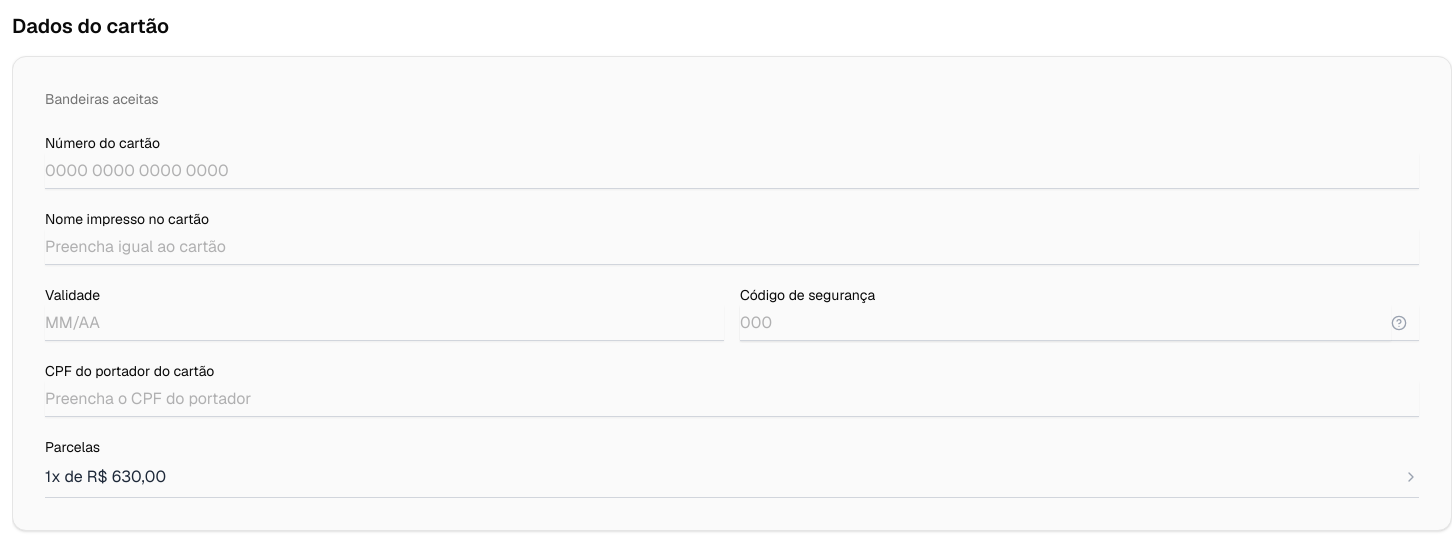
Test: CardDataForm › applies masks on inputs (card, expiration, CVV, CPF)
Type "5359402430066179" into the field with placeholder "0000 0000 0000 0000" at (732, 171), box [45, 153, 1419, 189]
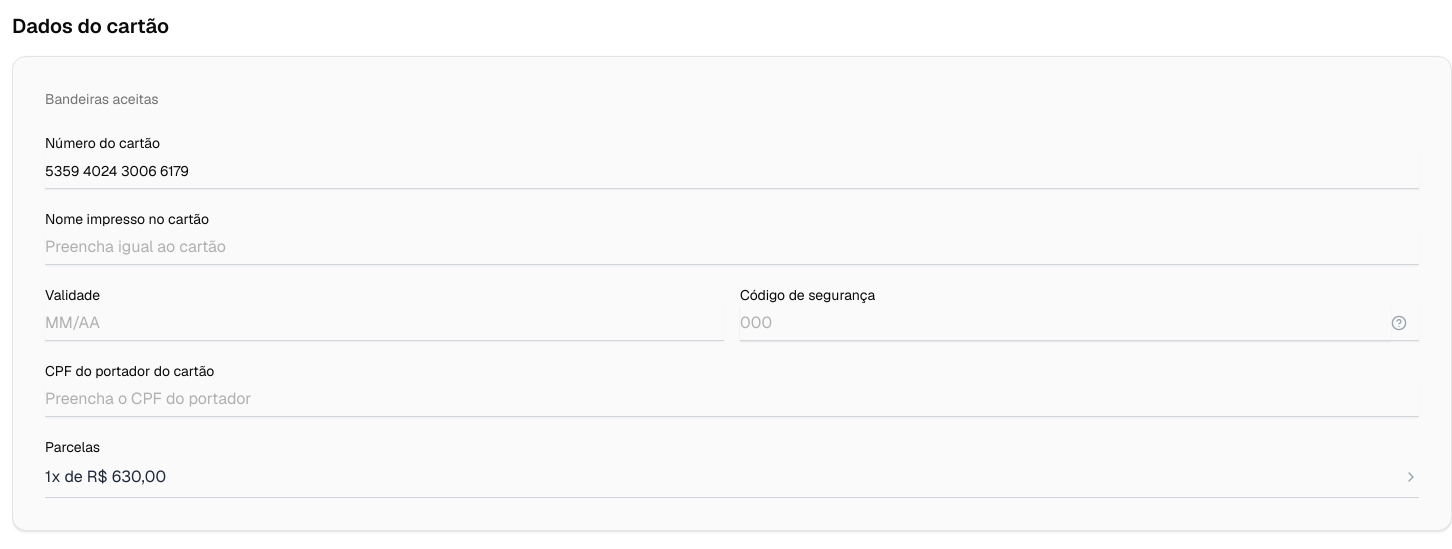
Expected: the field with placeholder "0000 0000 0000 0000" holds "5359 4024 3006 6179", [45, 153, 1419, 189]
Type "1127" into the field with placeholder "MM/AA" at (384, 323), box [45, 305, 724, 341]
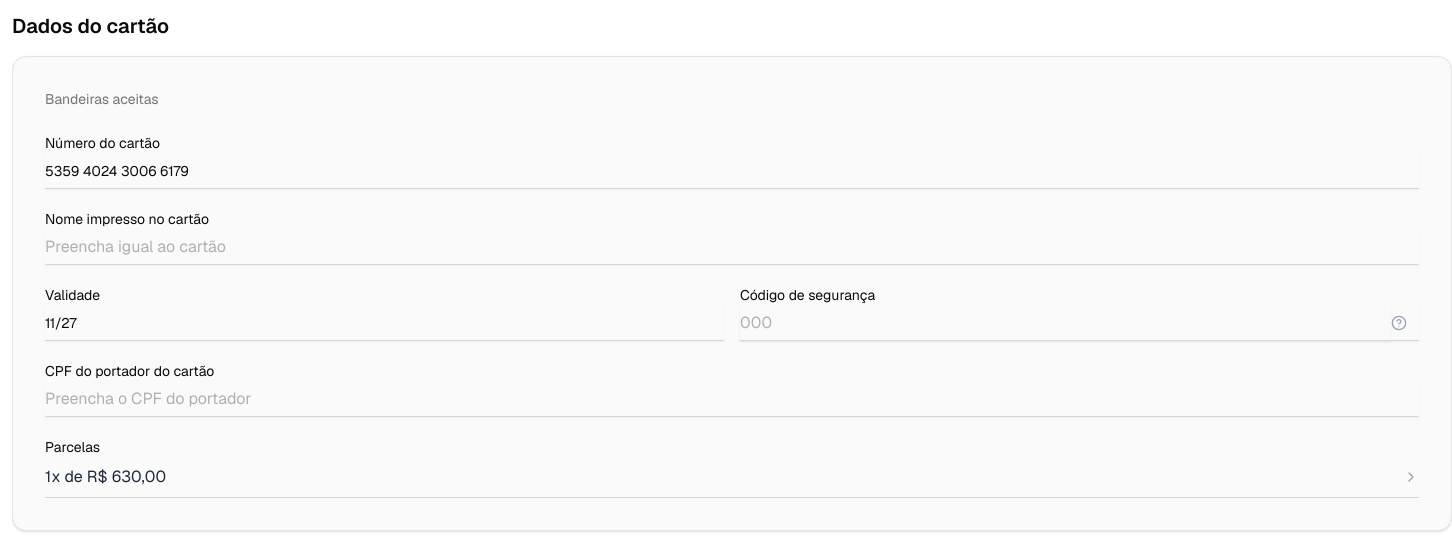
Expected: the field with placeholder "MM/AA" holds "11/27", [45, 305, 724, 341]
Type "12345" into the field with placeholder "000" at (1066, 322), box [740, 304, 1391, 340]
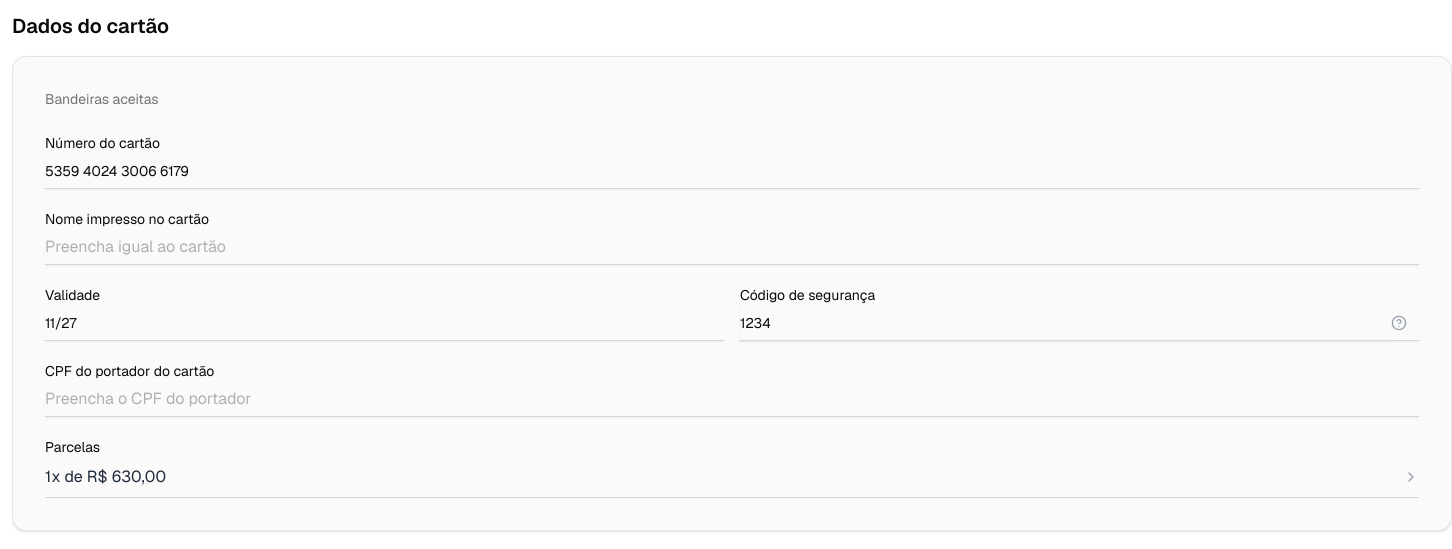
Expected: the field with placeholder "000" holds "1234", [740, 304, 1391, 340]
Type "49302810836" into the field with placeholder "Preencha o CPF do portador" at (732, 399), box [45, 381, 1419, 417]
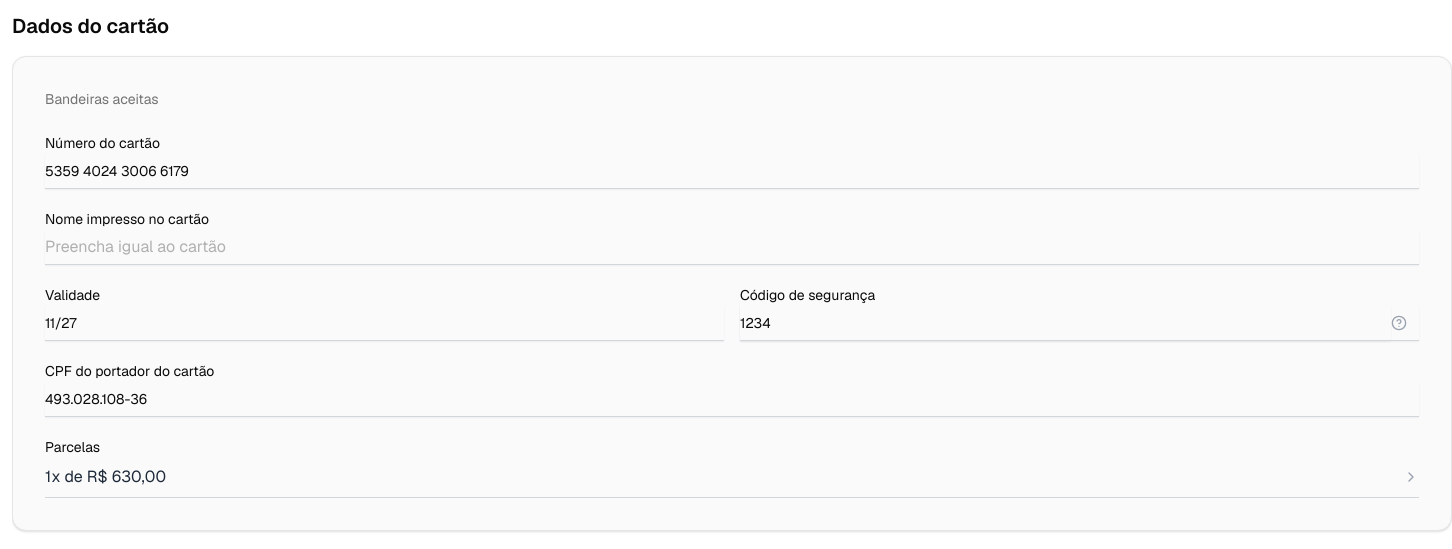
Expected: the field with placeholder "Preencha o CPF do portador" holds "493.028.108-36", [45, 381, 1419, 417]
